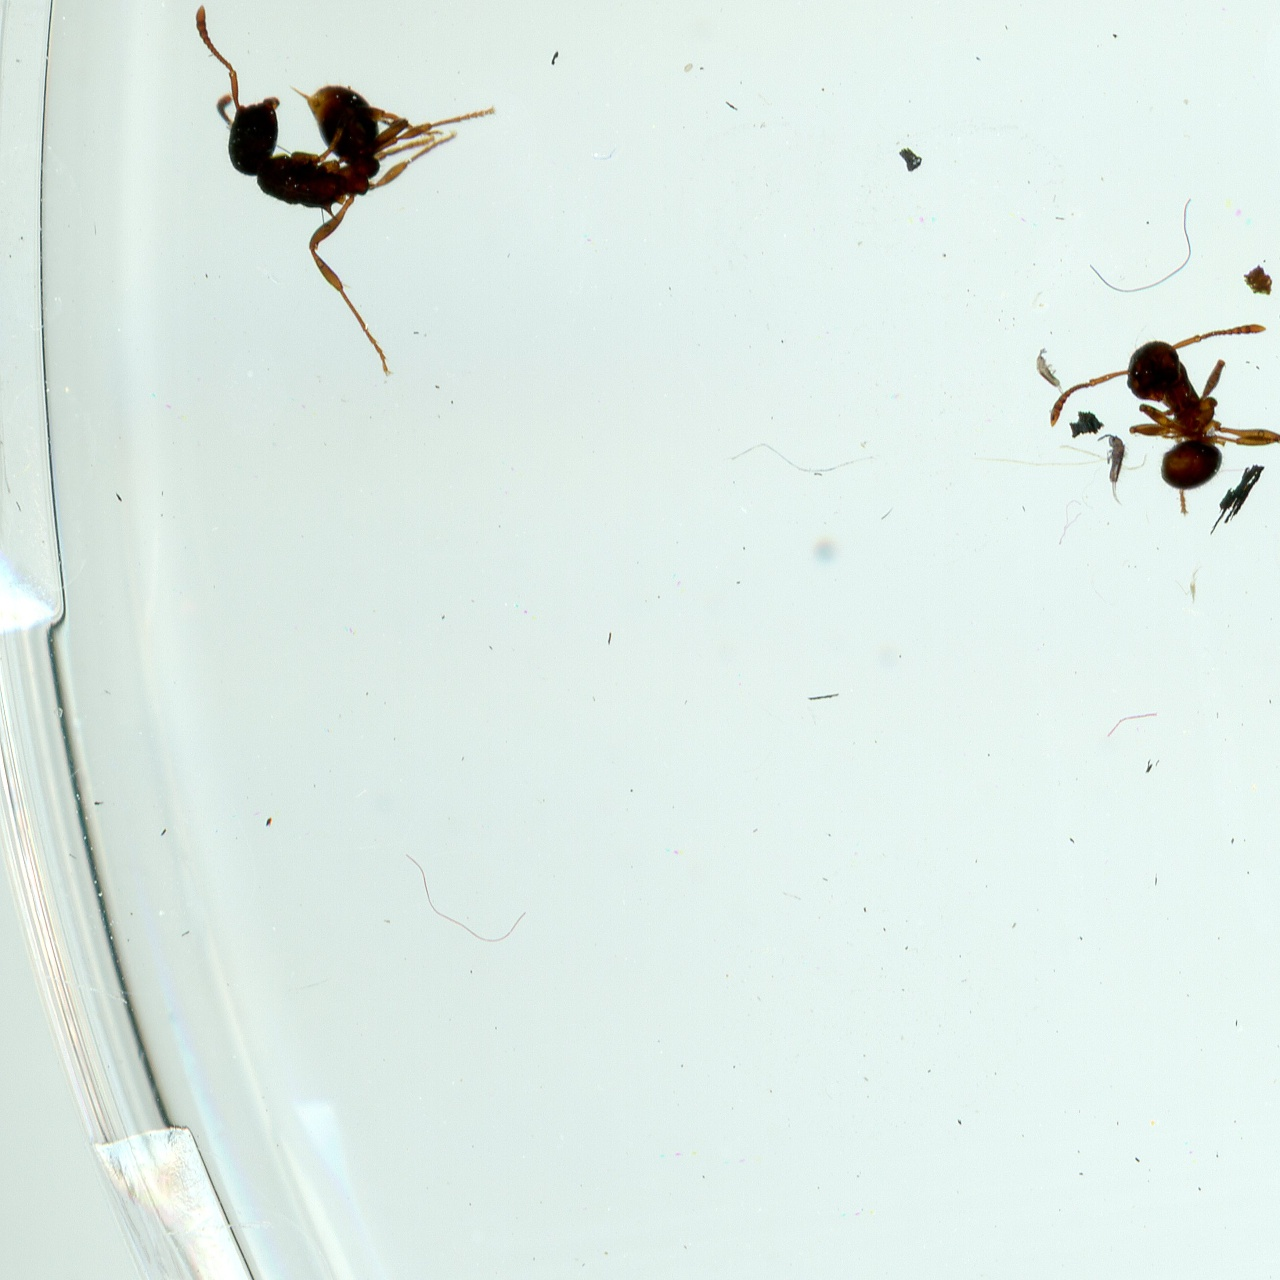arthropod: (169, 0, 518, 396), (1029, 290, 1280, 554), (1091, 424, 1133, 515), (1023, 341, 1067, 397)
